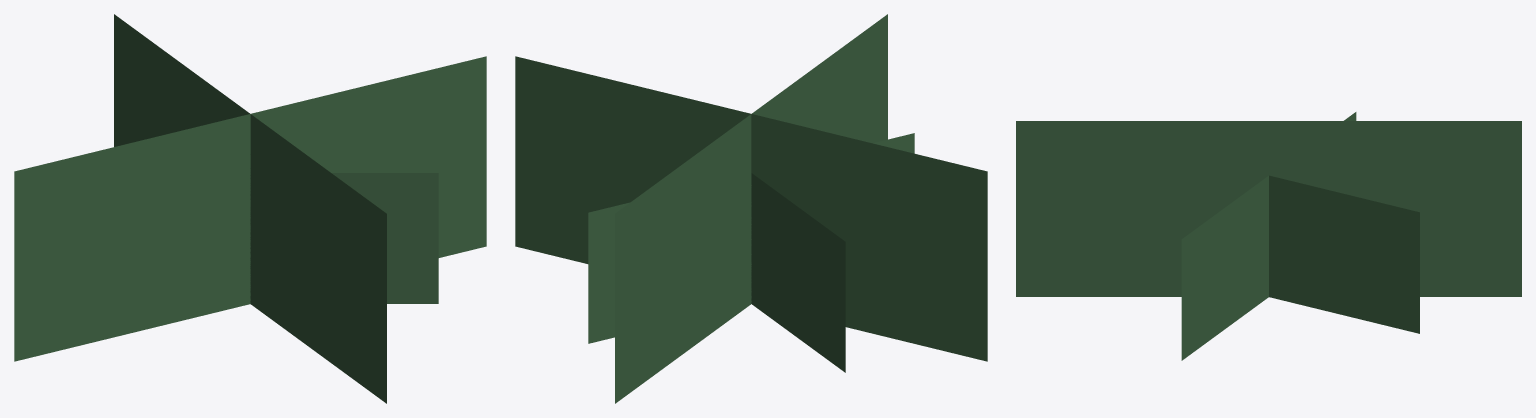
File: shrub.obj
3 views of the same model, side by side, from view 1: azimuth 30°, elevation 25°; view 2: azimuth 150°, elevation 25°; view 3: azimuth 270°, elevation 25° (orthographic). The views are drawn at different scales.
Bounding box in the file's own units: 0.78 × 0.3 × 0.78.
